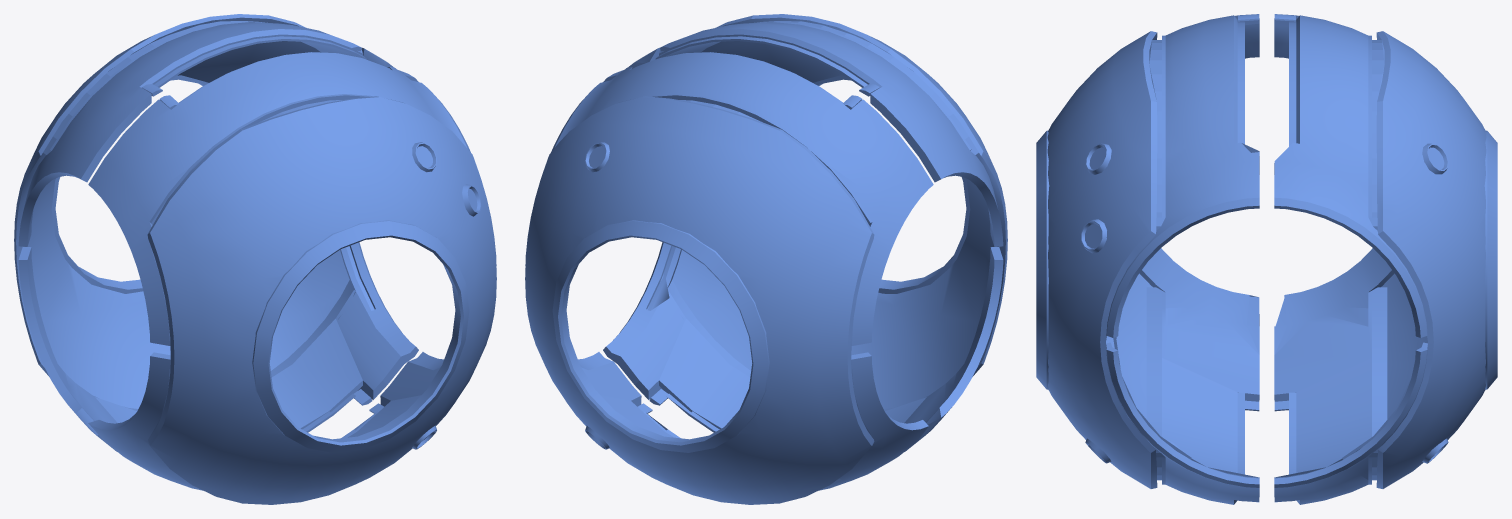
The model's file is chasis_no_core.obj.
The picture shows the model from 3 angles, left to right: view 1: azimuth 30°, elevation 25°; view 2: azimuth 150°, elevation 25°; view 3: azimuth 270°, elevation 25°; orthographic projection. The views are drawn at different scales.
Parts seen in each view (by area): view 1: personality_sphere_model; view 2: personality_sphere_model; view 3: personality_sphere_model.
Boxes of the visible parts, <box> form: personality_sphere_model: <box>14,14,496,504</box>; personality_sphere_model: <box>525,14,1007,504</box>; personality_sphere_model: <box>1036,14,1497,504</box>.
Bounding box in the file's own units: 26.31 × 31.63 × 29.85.
